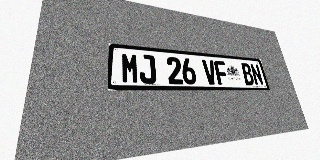2: (166, 56, 183, 84)
6: (180, 58, 197, 84)
B: (240, 63, 255, 85)
F: (213, 60, 229, 85)
J: (139, 54, 157, 84)
M: (121, 52, 139, 84)
N: (249, 63, 264, 85)
V: (202, 59, 218, 85)
